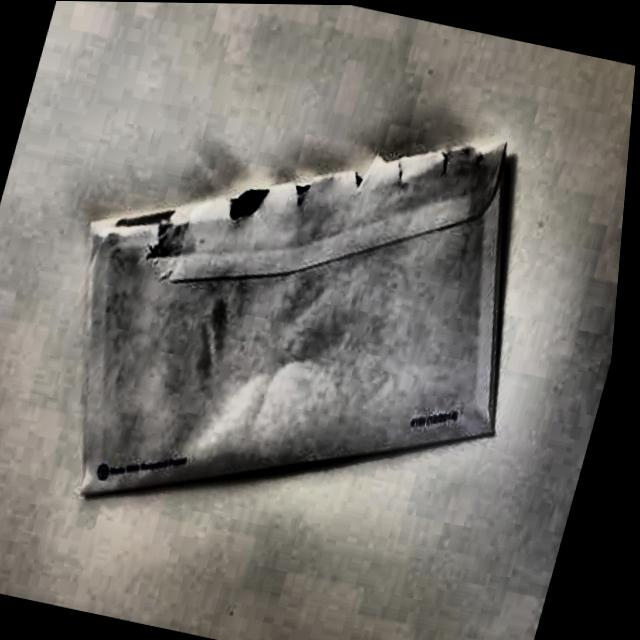Paper: (14, 57, 590, 592)
